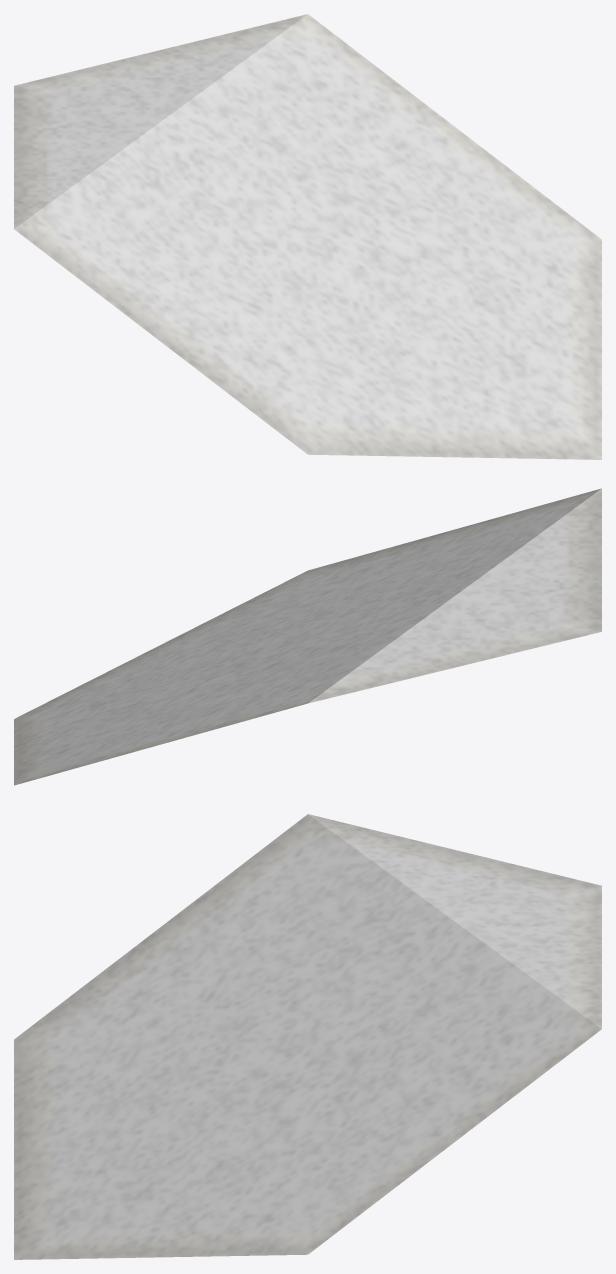
The model's file is HexaTile_PHC_C.FBX.
3 views of the same model, one above another, from view 1: azimuth 30°, elevation 25°; view 2: azimuth 210°, elevation 25°; view 3: azimuth 270°, elevation 25° (orthographic).
Parts seen in each view (by area): view 1: HexaTile_PHC_C; view 2: HexaTile_PHC_C; view 3: HexaTile_PHC_C.
Part boxes in pixels (box(x1,y1,x2,y2)): HexaTile_PHC_C: box(14, 14, 601, 459); HexaTile_PHC_C: box(14, 488, 601, 785); HexaTile_PHC_C: box(14, 814, 601, 1259).
Bounding box in the file's own units: 1 × 0.375 × 0.866.
